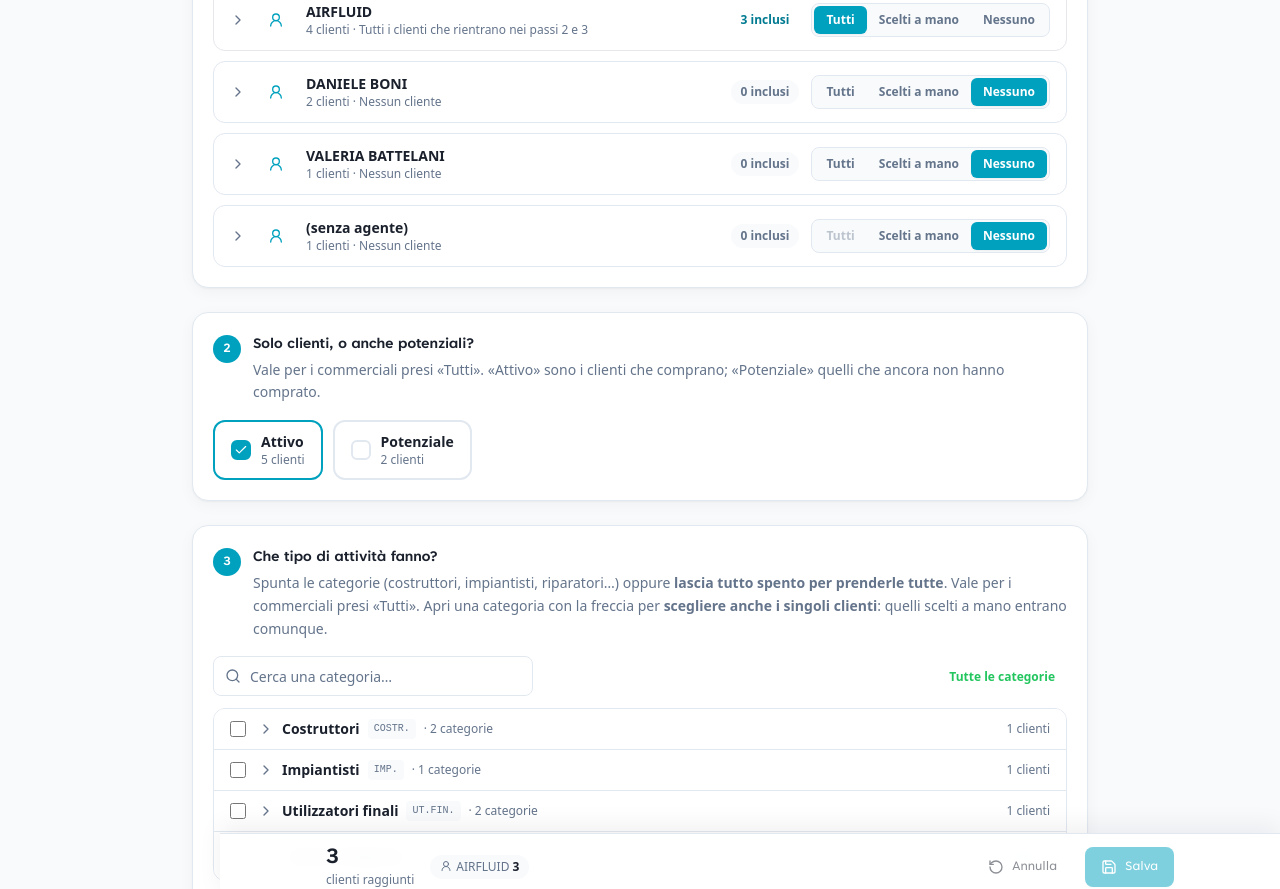
Test: pubblico standard: categorie › «Potenziale» allarga il pubblico
(page scrolled)
Click the button "Potenziale 2 clienti": (402, 450) [333,420,472,480]
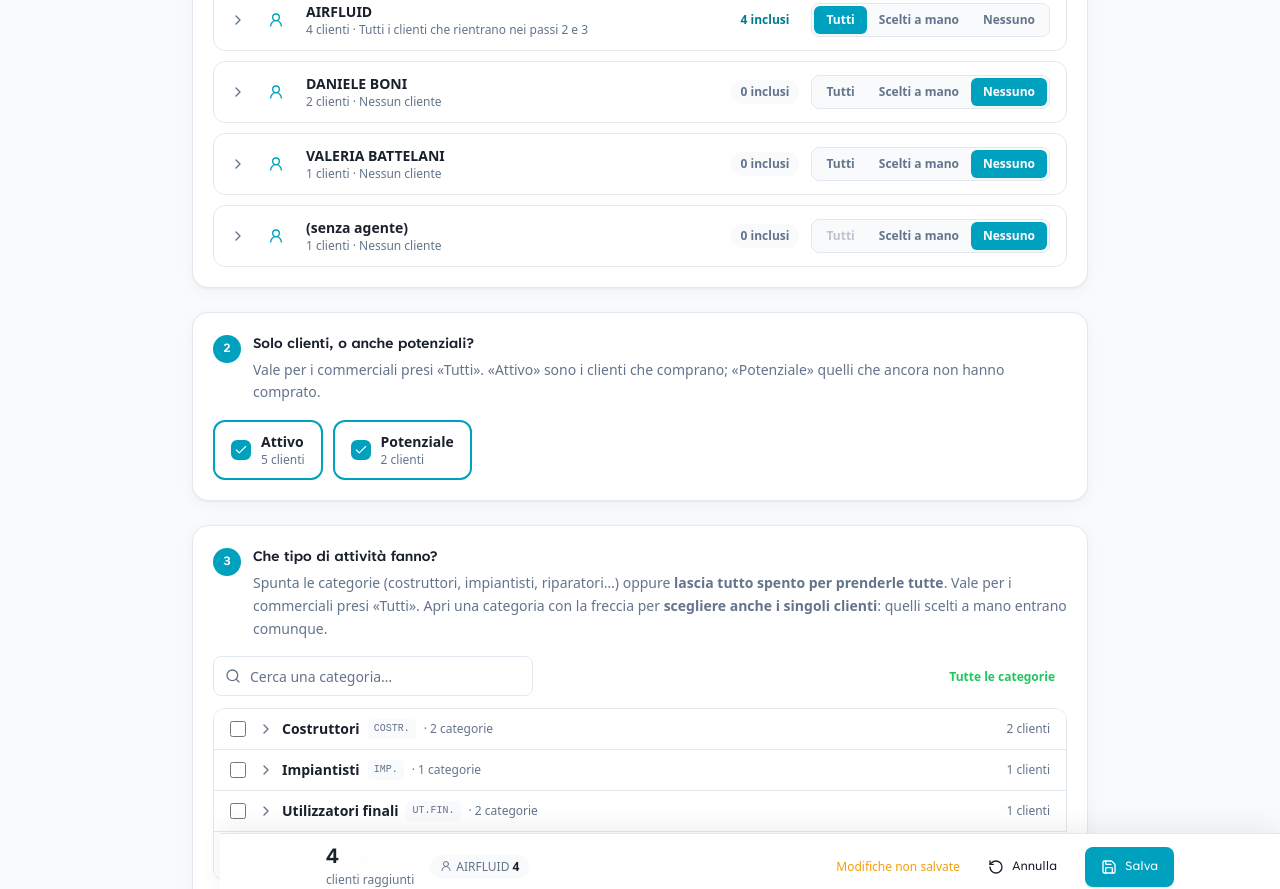
Result: the 1st text "4" is shown at [326,847,339,869]
